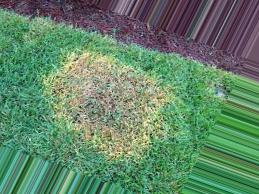patch: (80, 73, 140, 132), (52, 79, 76, 104), (147, 86, 158, 105), (81, 60, 104, 69)
